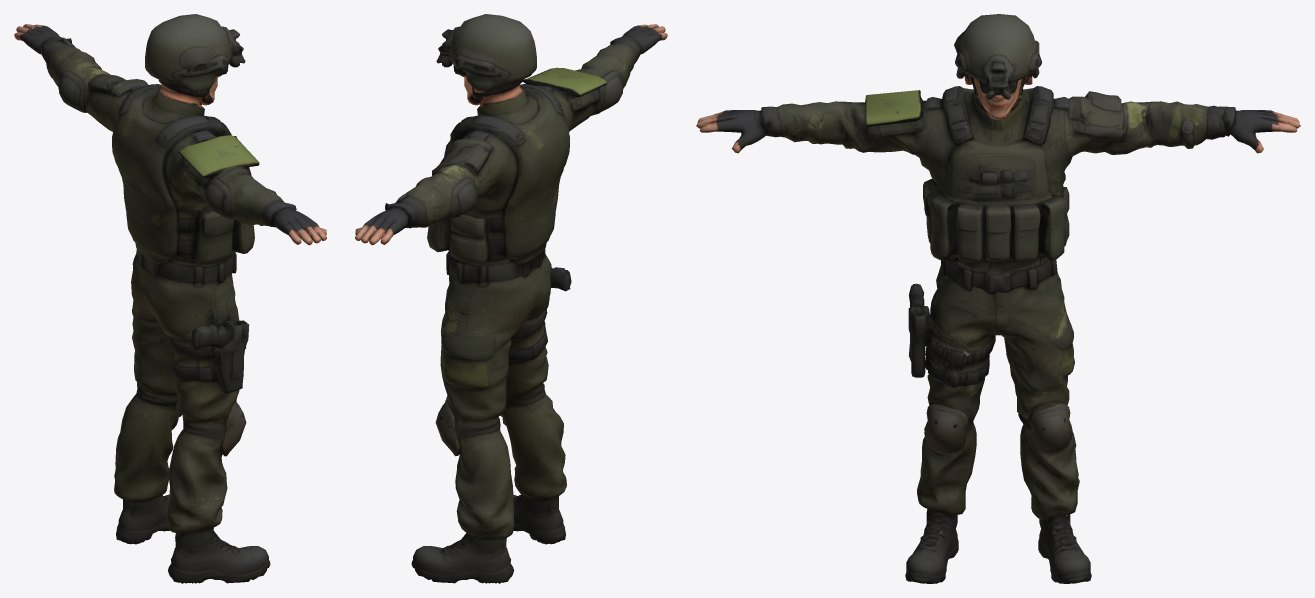
The model's file is enemy_soldier.glb.
The picture shows the model from 3 angles, left to right: view 1: azimuth 30°, elevation 25°; view 2: azimuth 150°, elevation 25°; view 3: azimuth 270°, elevation 25°; orthographic projection. The views are drawn at different scales.
Visible parts, largest first — view 1: tripo_node_6e74ec43-35dd-469e-9ad2-43430b9b441f; view 2: tripo_node_6e74ec43-35dd-469e-9ad2-43430b9b441f; view 3: tripo_node_6e74ec43-35dd-469e-9ad2-43430b9b441f.
Part boxes in pixels (<box>): tripo_node_6e74ec43-35dd-469e-9ad2-43430b9b441f: <box>14,14,326,583</box>; tripo_node_6e74ec43-35dd-469e-9ad2-43430b9b441f: <box>355,14,667,583</box>; tripo_node_6e74ec43-35dd-469e-9ad2-43430b9b441f: <box>696,14,1300,583</box>.
Size of the model in its own units: 0.2172 by 1 by 0.9961.
1 material, 1 textured.
